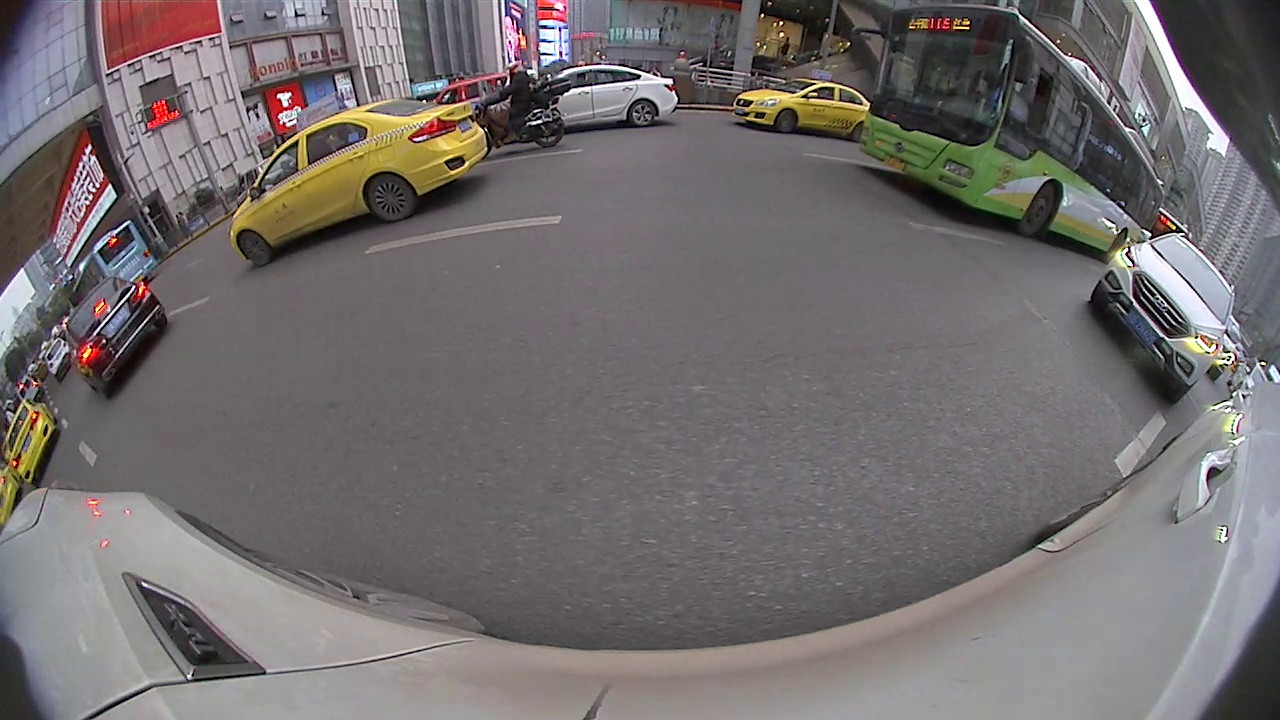bus: (860, 4, 1163, 259), (73, 219, 160, 306)
car: (227, 95, 487, 269), (1085, 229, 1237, 409), (61, 274, 170, 401), (533, 59, 678, 136), (732, 78, 875, 139), (2, 397, 56, 490), (1204, 311, 1242, 384), (43, 335, 73, 387)
front: (1021, 183, 1062, 238), (233, 233, 274, 267), (776, 108, 797, 134)
rear: (364, 177, 419, 223), (525, 114, 566, 147), (629, 102, 660, 126)
rider: (469, 60, 569, 151)
